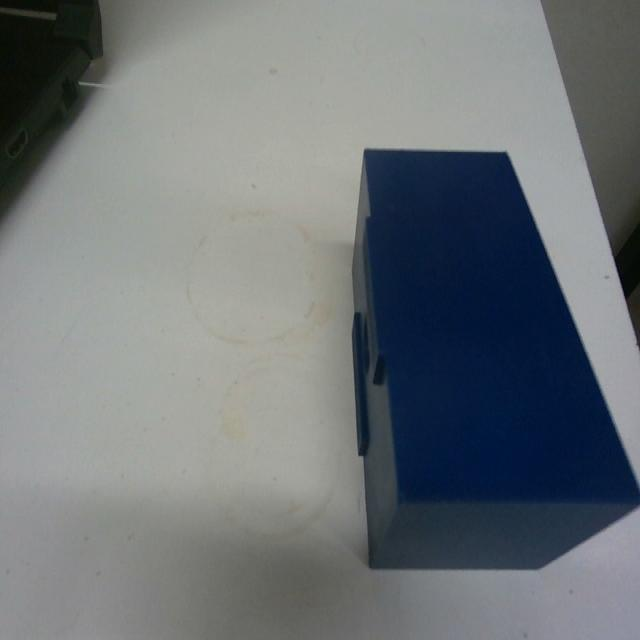Blue Cuboid: (348, 143, 638, 572)
